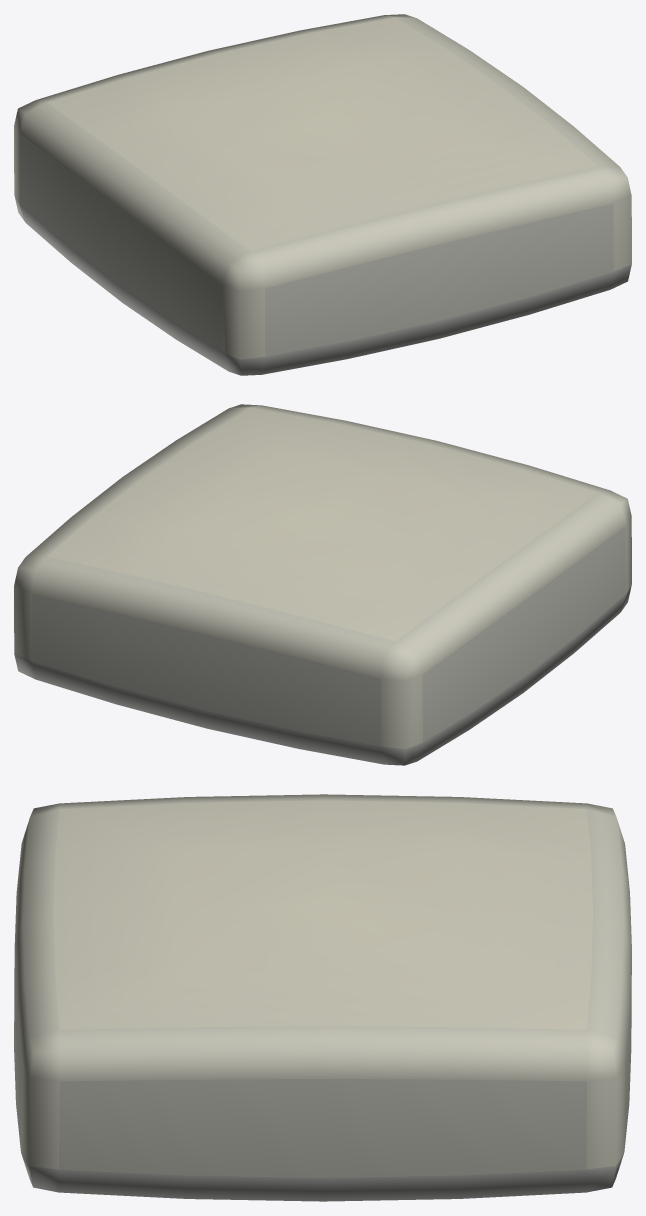
The model's file is trim_stone1_corner_conc_LOD_setup.fbx.
The picture shows the model from 3 angles, top to bottom: view 1: azimuth 30°, elevation 25°; view 2: azimuth 150°, elevation 25°; view 3: azimuth 270°, elevation 25°; orthographic projection. The views are drawn at different scales.
Visible parts, largest first — view 1: trim_stone1_corner_conc_LOD0; view 2: trim_stone1_corner_conc_LOD0; view 3: trim_stone1_corner_conc_LOD0.
Part boxes in pixels (x1,y1,x2,y2): trim_stone1_corner_conc_LOD0: (14, 14, 631, 375); trim_stone1_corner_conc_LOD0: (14, 404, 631, 765); trim_stone1_corner_conc_LOD0: (14, 794, 631, 1201).
Size of what is drawn, in the model's own units: 109 by 34.91 by 109.
